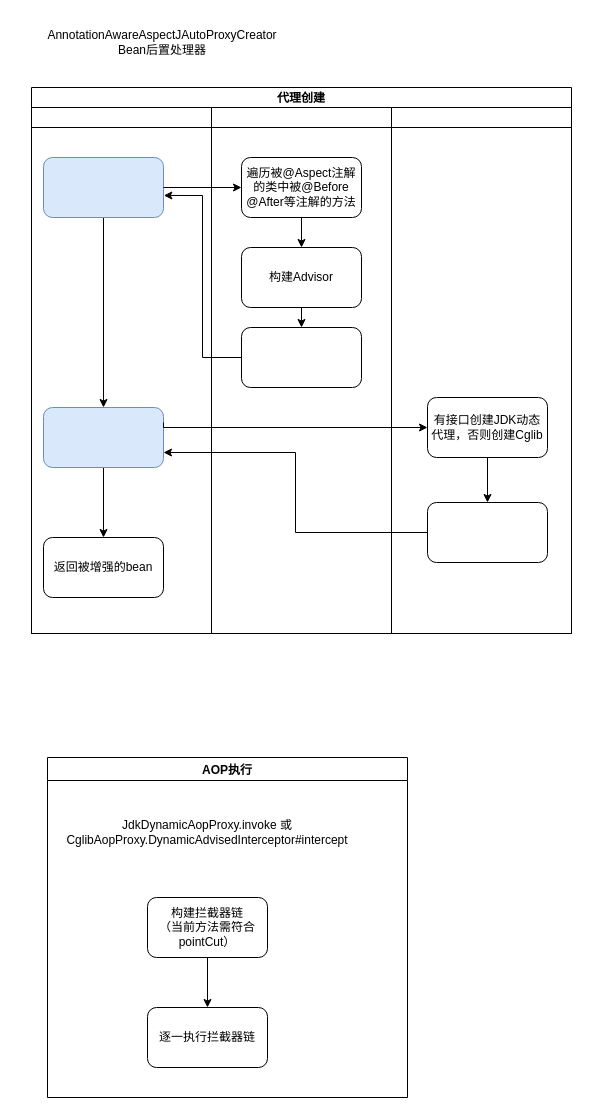
This 589x1115 diagram has some shape labels left out. The centre of each missing label's shape, as x and y in pixels:
Jdk: Proxy.newInstance Cglib: enchance.create: point (487, 532)
创建代理: point (103, 437)
根据表达式过滤出符合条件的Advisor: point (301, 357)
获取Advisor: point (103, 187)
